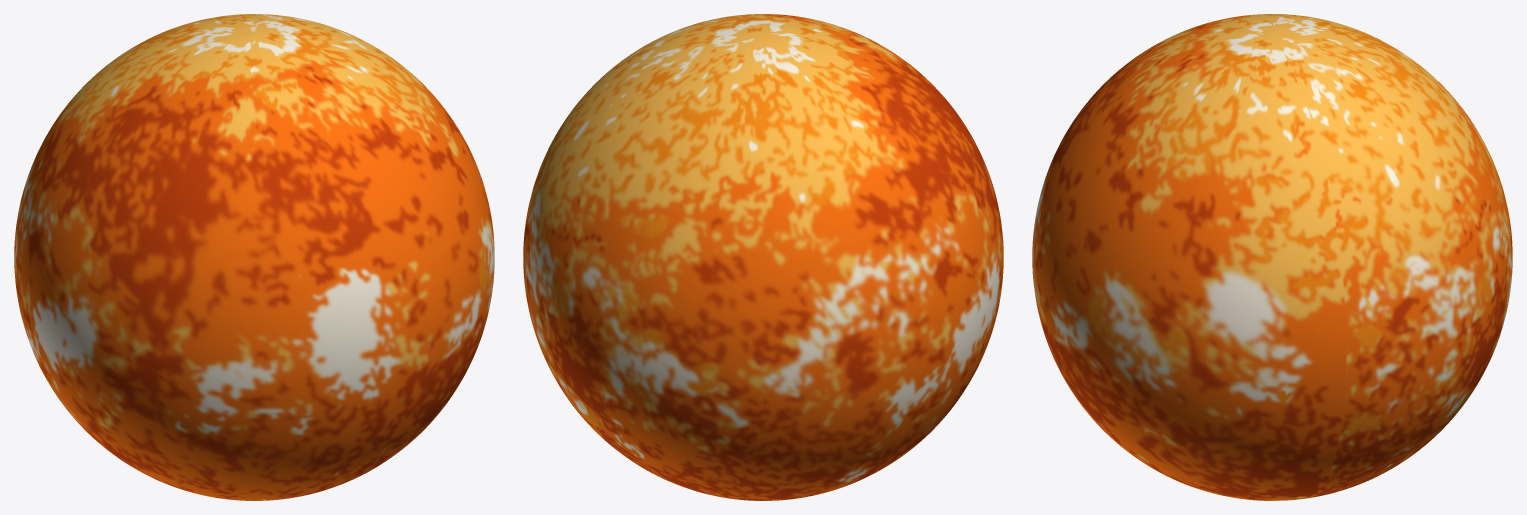
The model's file is sunSphere.fbx.
The picture shows the model from 3 angles, left to right: view 1: azimuth 30°, elevation 25°; view 2: azimuth 150°, elevation 25°; view 3: azimuth 270°, elevation 25°; orthographic projection.
Visible parts, largest first — view 1: pSphere1; view 2: pSphere1; view 3: pSphere1.
Boxes of the visible parts, box(x1,y1,x2,y2) form: pSphere1: box(14, 14, 494, 500); pSphere1: box(523, 14, 1003, 500); pSphere1: box(1032, 14, 1512, 500).
Size of the model in its own units: 89.67 by 91.32 by 89.67.
